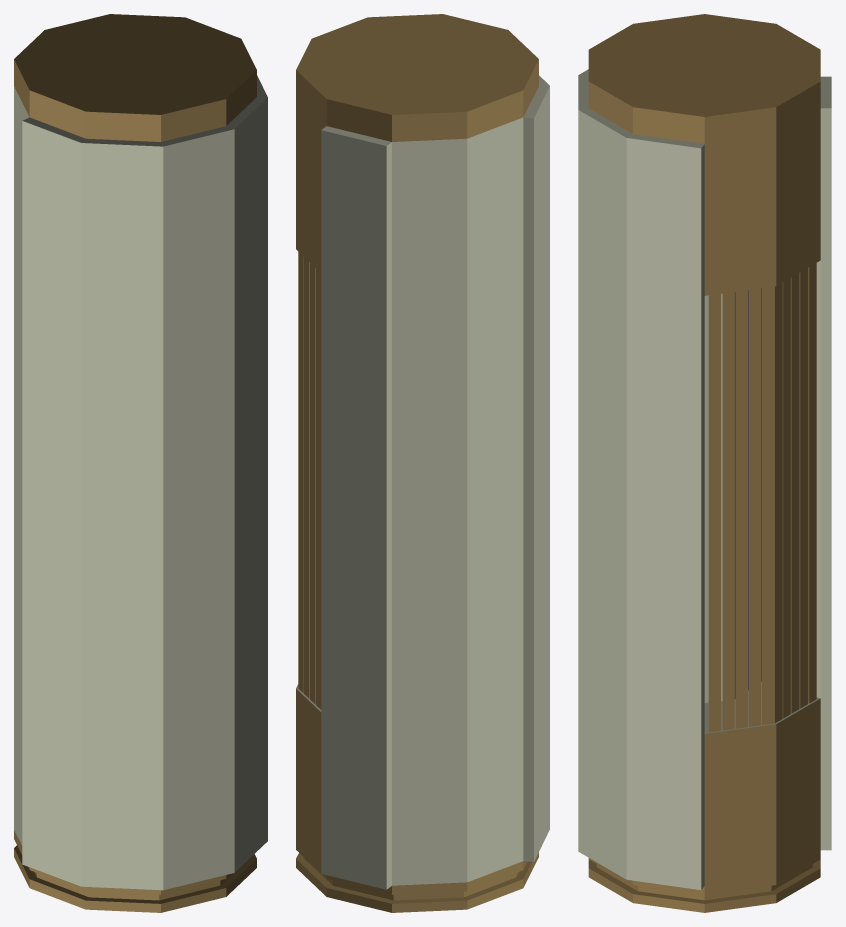
The model's file is Air Conditioner 1.fbx.
3 views of the same model, side by side, from view 1: azimuth 30°, elevation 25°; view 2: azimuth 150°, elevation 25°; view 3: azimuth 270°, elevation 25° (orthographic).
Parts seen in each view (by area): view 1: Node 0; view 2: Node 0; view 3: Node 0.
Part boxes in pixels (x1=…): Node 0: x1=14, y1=14, x2=267, y2=912; Node 0: x1=296, y1=14, x2=549, y2=912; Node 0: x1=578, y1=14, x2=831, y2=912.
Bounding box in the file's own units: 0.5624 × 1.95 × 0.5877.
